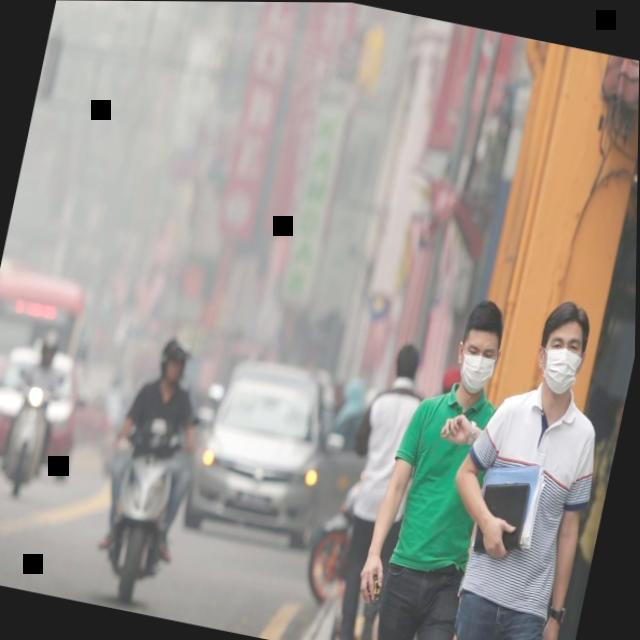Mask: (524, 290, 600, 406), (444, 290, 514, 402)
NO-Mask: (151, 325, 198, 391)
